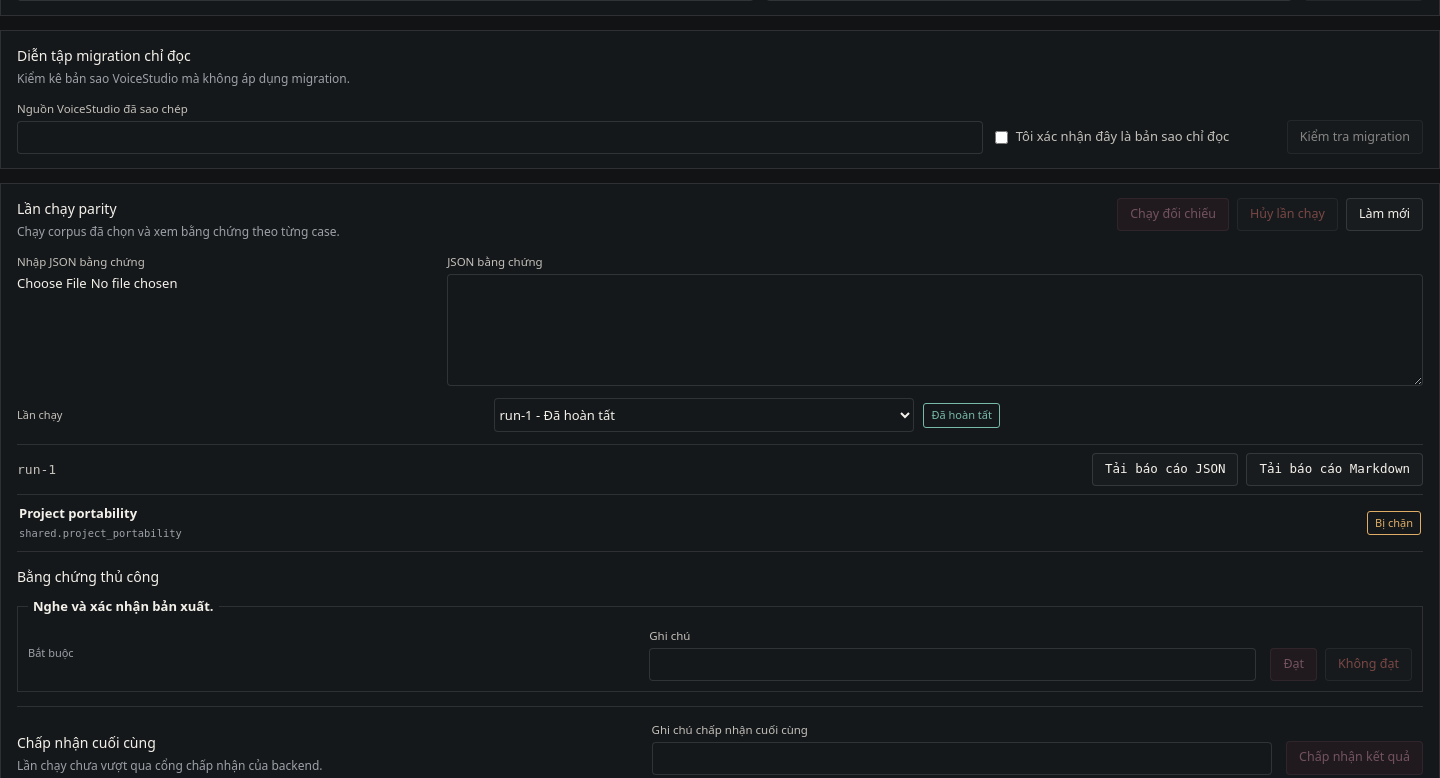
Test: ParityPage › records a Đạt manual answer with its note
(page scrolled)
Type "Đã nghe kỹ." into the field labelled "Ghi chú" at (953, 664), box 649,648 -> 1256,681
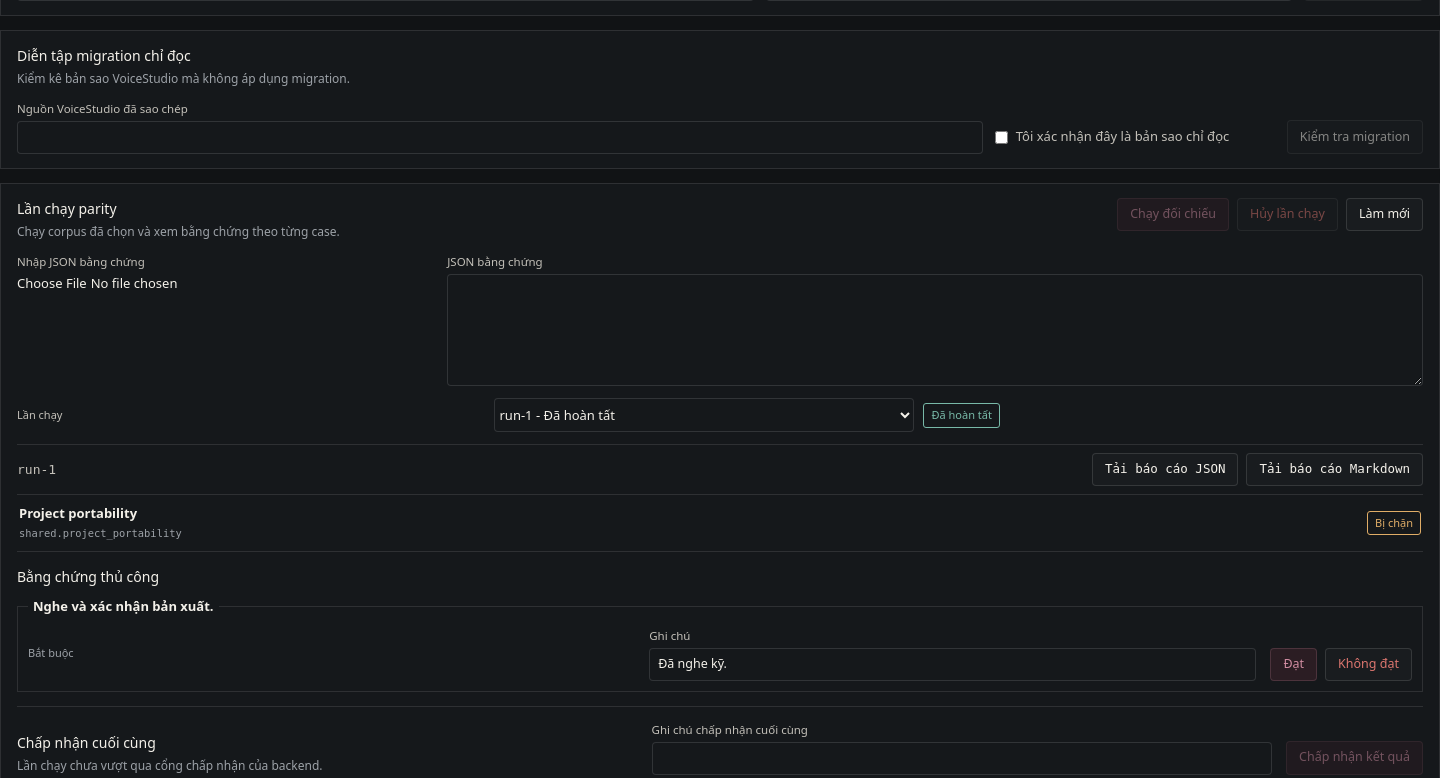
Click the button "Đạt" at (1294, 664), box 1270,648 -> 1317,681
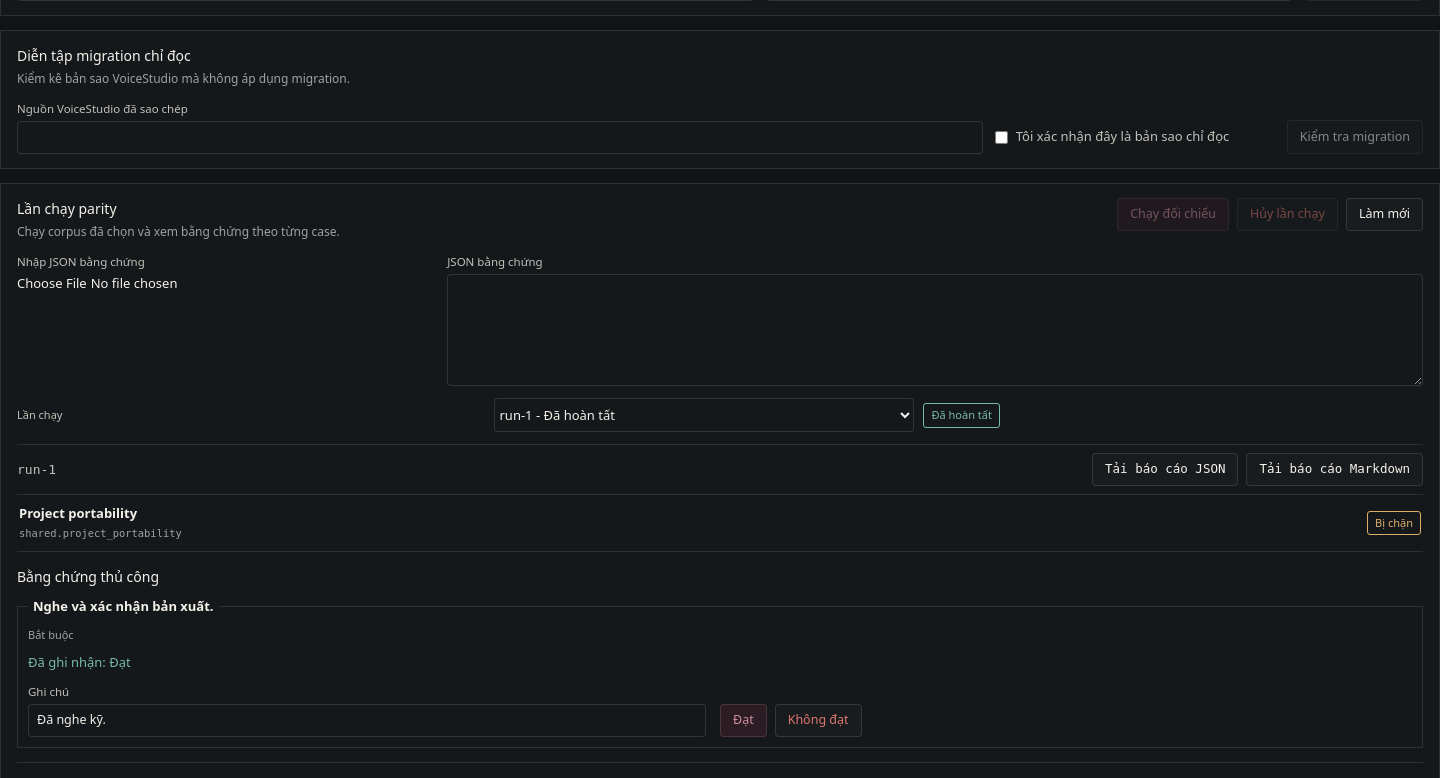
Expected: the text "Đã ghi nhận: Đạt" is shown, 28,653 -> 131,671
